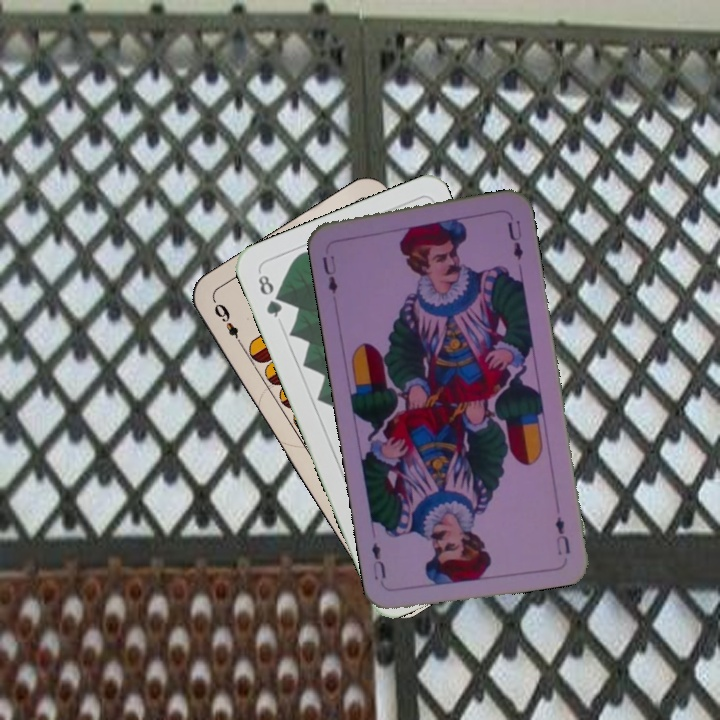E9: (210, 299, 246, 351)
EU: (318, 251, 341, 296), (551, 512, 573, 558)
G8: (254, 268, 285, 321)
